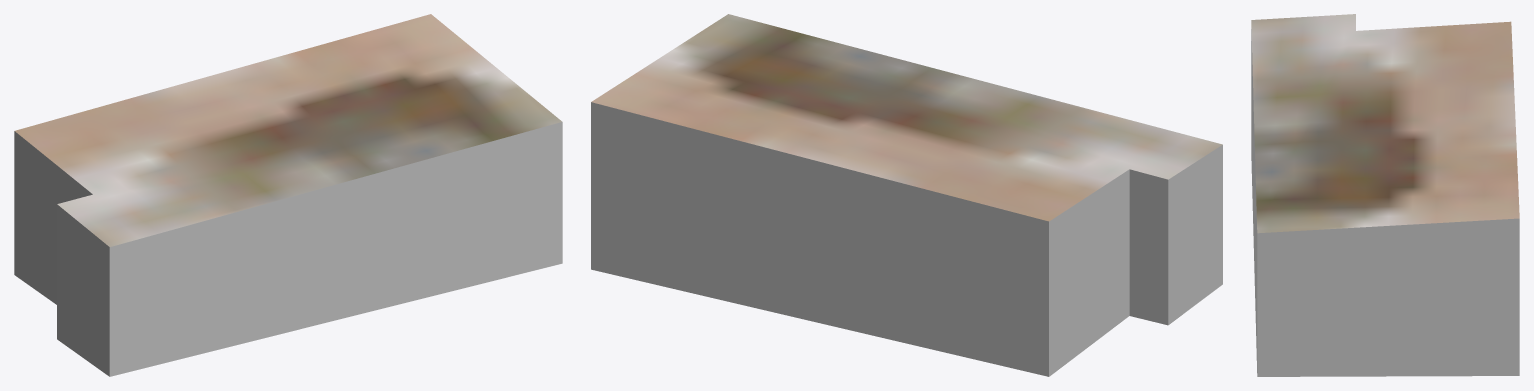
Rendered from DEBW_0010007THYT.gltf.
3 views of the same model, side by side, from view 1: azimuth 30°, elevation 25°; view 2: azimuth 150°, elevation 25°; view 3: azimuth 270°, elevation 25° (orthographic). The views are drawn at different scales.
Visible parts, largest first — view 1: Z_UP; view 2: Z_UP; view 3: Z_UP.
Boxes of the visible parts, bbox=[...] form: Z_UP: bbox=[14, 14, 562, 376]; Z_UP: bbox=[591, 14, 1222, 376]; Z_UP: bbox=[1251, 14, 1519, 376].
Bounding box in the file's own units: 4.44 × 1.44 × 2.23.
2 materials, 1 textured.
